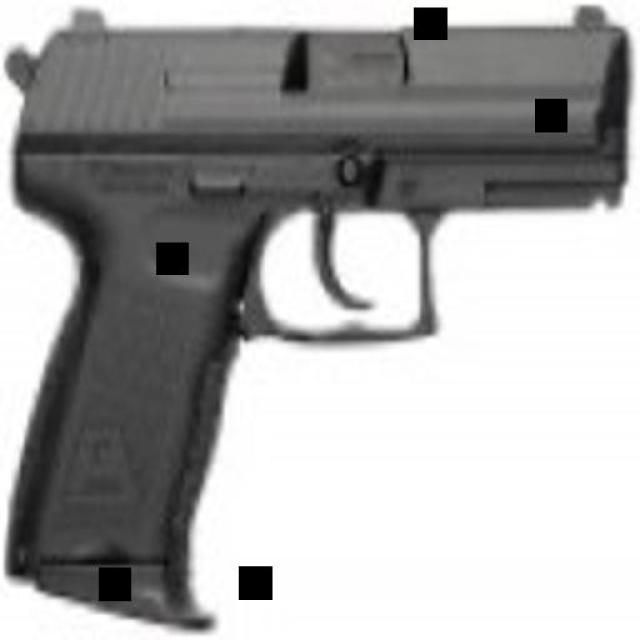gun: (2, 4, 618, 611)
